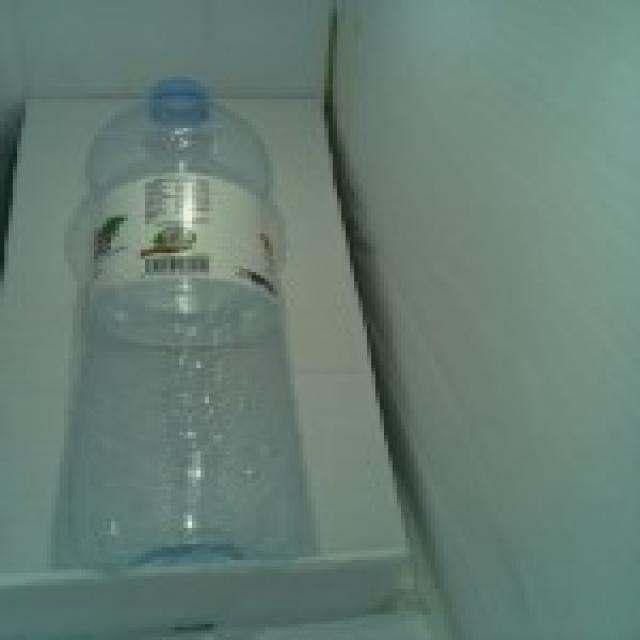good: (41, 45, 349, 602)
